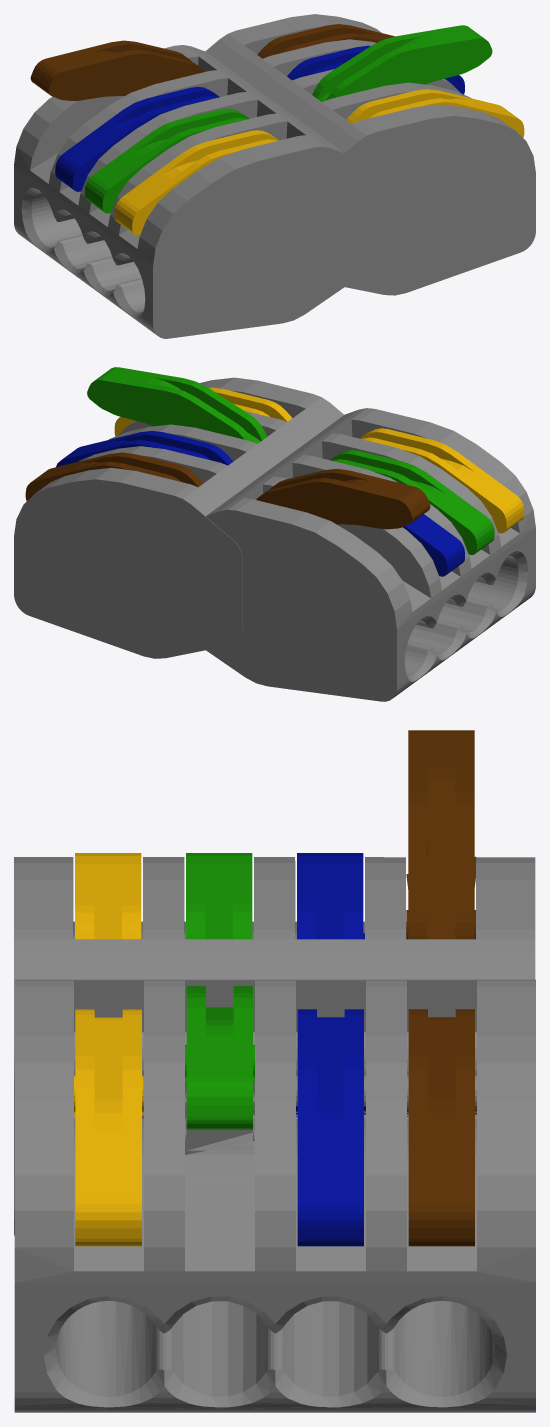
The model's file is Clip Connector - 4 BR-BL-GR-YL.glb.
The picture shows the model from 3 angles, top to bottom: view 1: azimuth 30°, elevation 25°; view 2: azimuth 150°, elevation 25°; view 3: azimuth 270°, elevation 25°; orthographic projection. The views are drawn at different scales.
Parts seen in each view (by area): view 1: Wago 4-Pole.009, Wago 4-Pole, Wago 4-Pole.001, Wago 4-Pole.007, Wago 4-Pole.005, Wago 4-Pole.006, Wago 4-Pole.008, Wago 4-Pole.012, Wago 4-Pole.010, Wago 4-Pole.011, Cube.001, Cube.004; view 2: Wago 4-Pole.009, Wago 4-Pole, Wago 4-Pole.014, Wago 4-Pole.001, Wago 4-Pole.007, Wago 4-Pole.005, Wago 4-Pole.006, Wago 4-Pole.010, Wago 4-Pole.011, Wago 4-Pole.008, Wago 4-Pole.012, Cube.001 (+1 smaller); view 3: Wago 4-Pole, Wago 4-Pole.009, Wago 4-Pole.012, Wago 4-Pole.011, Wago 4-Pole.010, Wago 4-Pole.007, Wago 4-Pole.001, Wago 4-Pole.008, Wago 4-Pole.005, Wago 4-Pole.006, Cube.002, Cube.003.
Part boxes in pixels (x1,y1,x2,y2): Wago 4-Pole.009: [14, 45, 381, 338]; Wago 4-Pole: [205, 14, 535, 295]; Wago 4-Pole.001: [312, 25, 492, 101]; Wago 4-Pole.007: [30, 40, 204, 100]; Wago 4-Pole.005: [114, 130, 278, 235]; Wago 4-Pole.006: [85, 108, 249, 213]; Wago 4-Pole.008: [55, 87, 219, 191]; Wago 4-Pole.012: [346, 89, 524, 137]; Wago 4-Pole.010: [257, 24, 394, 58]; Wago 4-Pole.011: [287, 45, 464, 94]; Cube.001: [231, 58, 273, 90]; Cube.004: [290, 101, 332, 134]; Wago 4-Pole.009: [206, 408, 535, 701]; Wago 4-Pole: [14, 377, 343, 658]; Wago 4-Pole.014: [14, 480, 242, 657]; Wago 4-Pole.001: [87, 367, 267, 443]; Wago 4-Pole.007: [256, 469, 430, 529]; Wago 4-Pole.005: [360, 428, 524, 533]; Wago 4-Pole.006: [330, 450, 494, 554]; Wago 4-Pole.010: [25, 452, 203, 500]; Wago 4-Pole.011: [56, 431, 233, 466]; Wago 4-Pole.008: [403, 514, 464, 576]; Wago 4-Pole.012: [114, 387, 292, 435]; Cube.001: [217, 465, 259, 497]; Wago 4-Pole: [14, 979, 535, 1412]; Wago 4-Pole.009: [14, 857, 535, 1235]; Wago 4-Pole.012: [74, 1009, 143, 1246]; Wago 4-Pole.011: [296, 1009, 365, 1246]; Wago 4-Pole.010: [407, 1009, 476, 1246]; Wago 4-Pole.007: [406, 730, 476, 939]; Wago 4-Pole.001: [185, 986, 254, 1129]; Wago 4-Pole.008: [297, 853, 364, 939]; Wago 4-Pole.005: [75, 853, 141, 939]; Wago 4-Pole.006: [186, 853, 252, 939]; Cube.002: [102, 953, 225, 979]; Cube.003: [323, 953, 446, 979].
Size of the model in its own units: 5 by 2.47 by 3.08.
